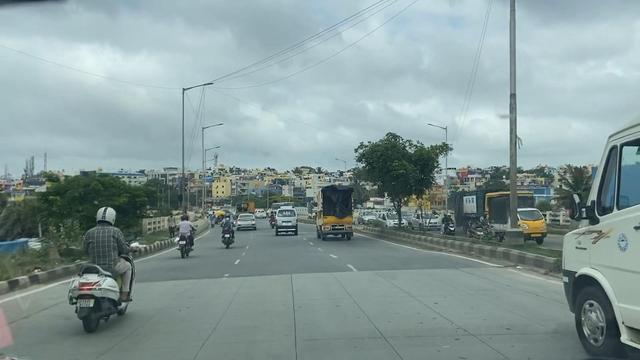HMV: (321, 183, 354, 237)
LMV: (78, 206, 136, 337), (271, 206, 297, 236), (178, 214, 192, 257)
